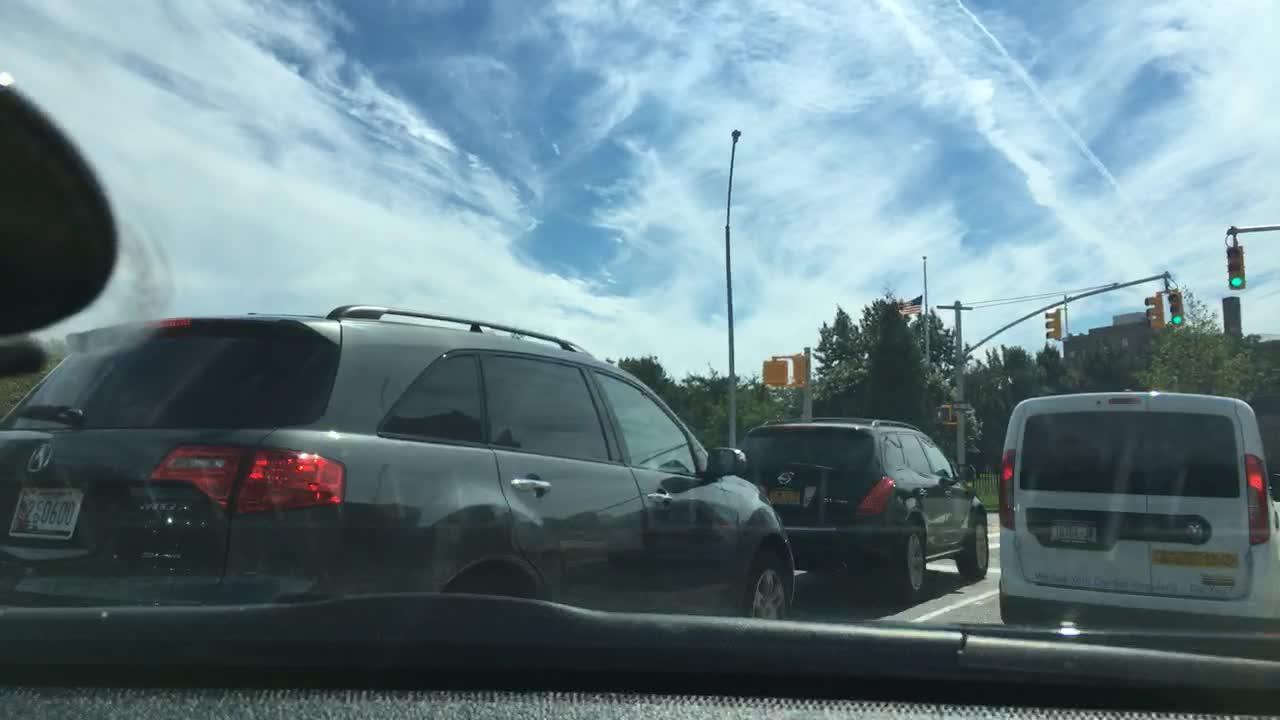acura: (24, 440, 55, 480)
ram: (1183, 518, 1206, 543)
